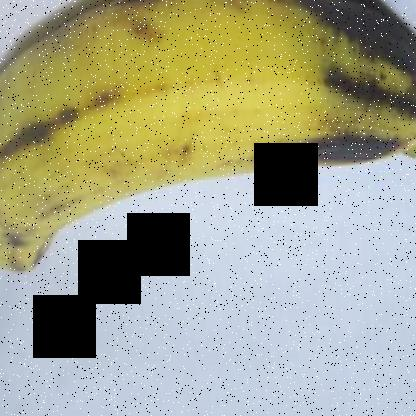ripe: (1, 1, 415, 309)
